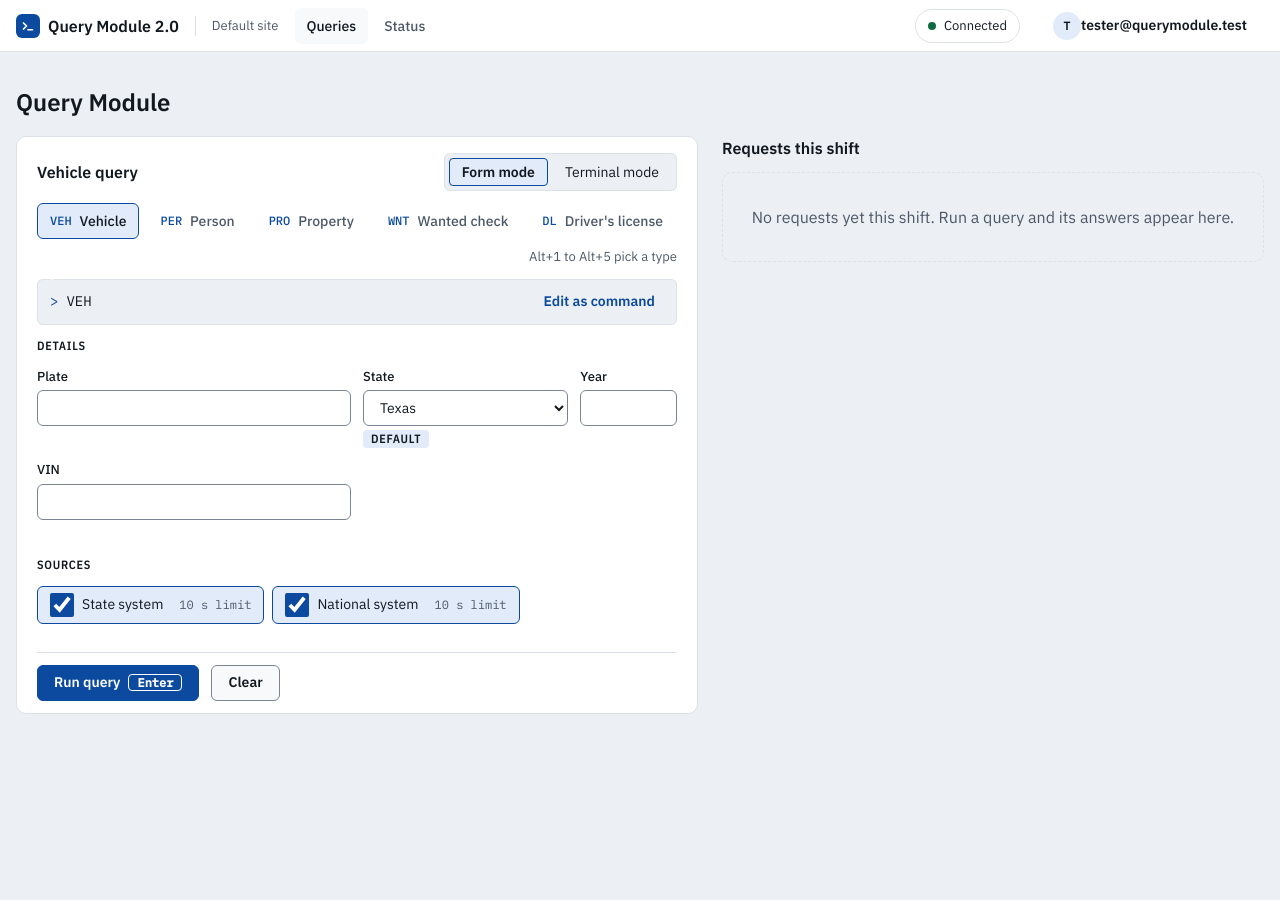
Test: G32 the draft after a run › the request row keeps the command it was sent with
The image size is (1280, 900).
Type "ZZ-0001" into the field labelled "Plate" at (194, 408), box [37,390,351,426]
Then press Enter
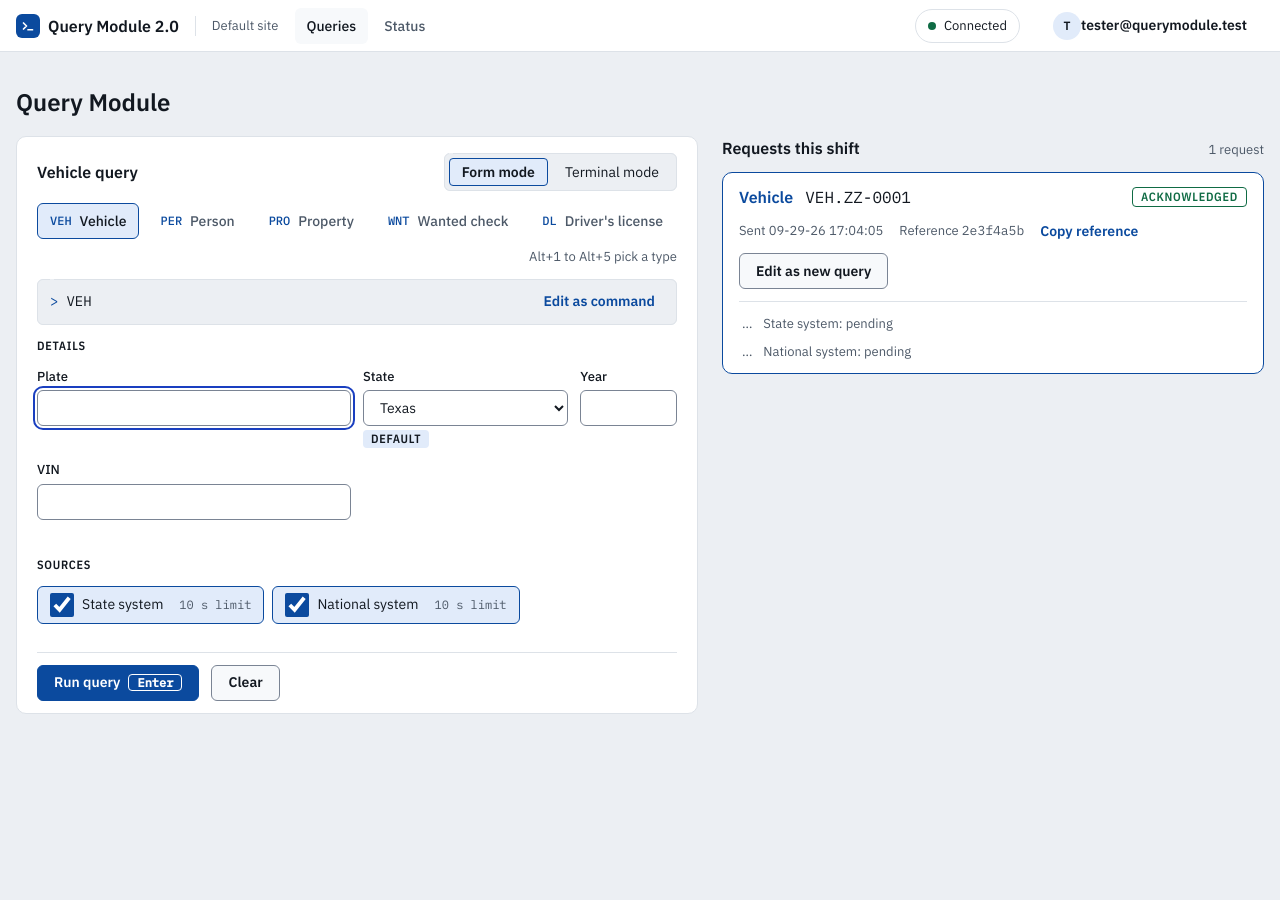
Check: the list item shows "ZZ-0001", box [805,187,911,207]
